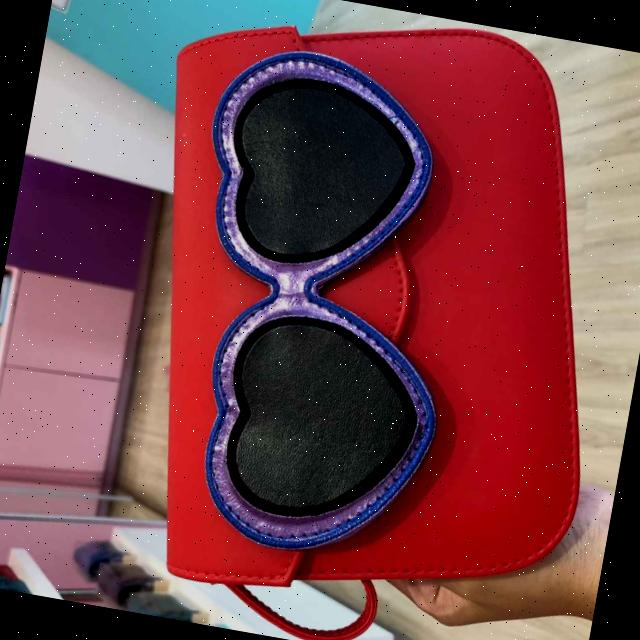Handbag: (84, 0, 640, 640)
